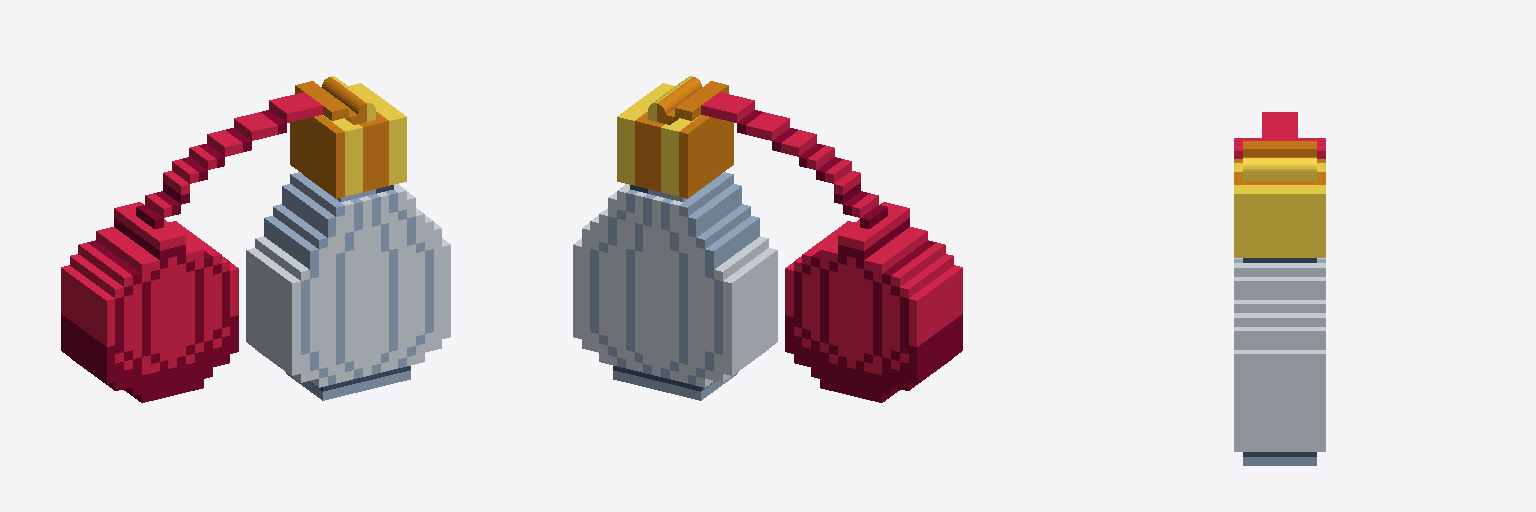
The model's file is FancyPerfume.obj.
3 renders of one model, left to right at view 1: azimuth 30°, elevation 25°; view 2: azimuth 150°, elevation 25°; view 3: azimuth 270°, elevation 25°, orthographic.
Size of the model in its own units: 39 by 31 by 9.